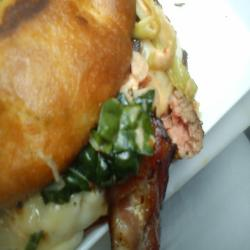burger: (1, 1, 175, 243)
